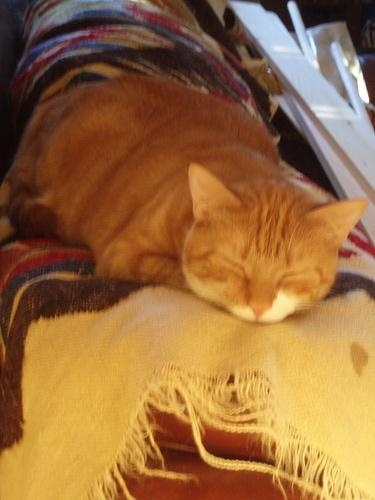cat: (21, 75, 364, 337)
